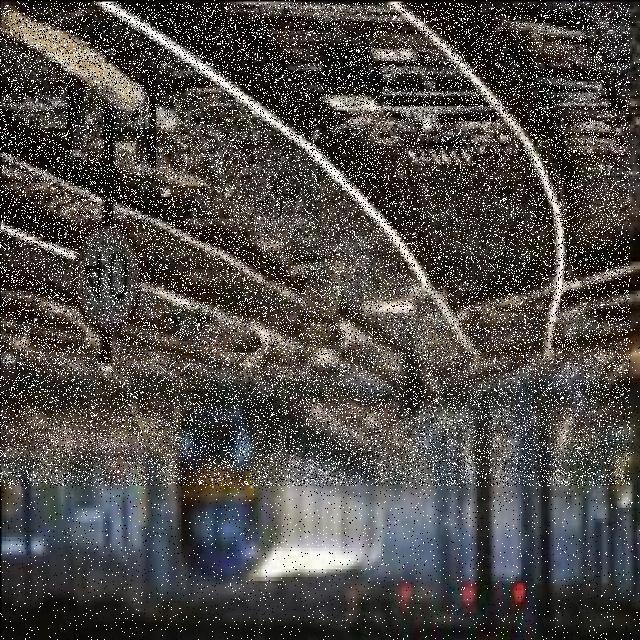rail: (2, 4, 631, 487)
